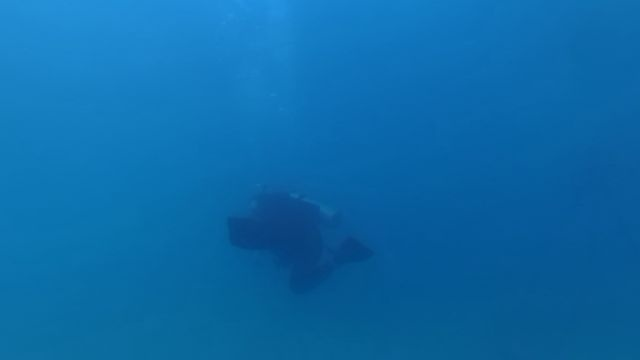Diver: (221, 180, 382, 309)
